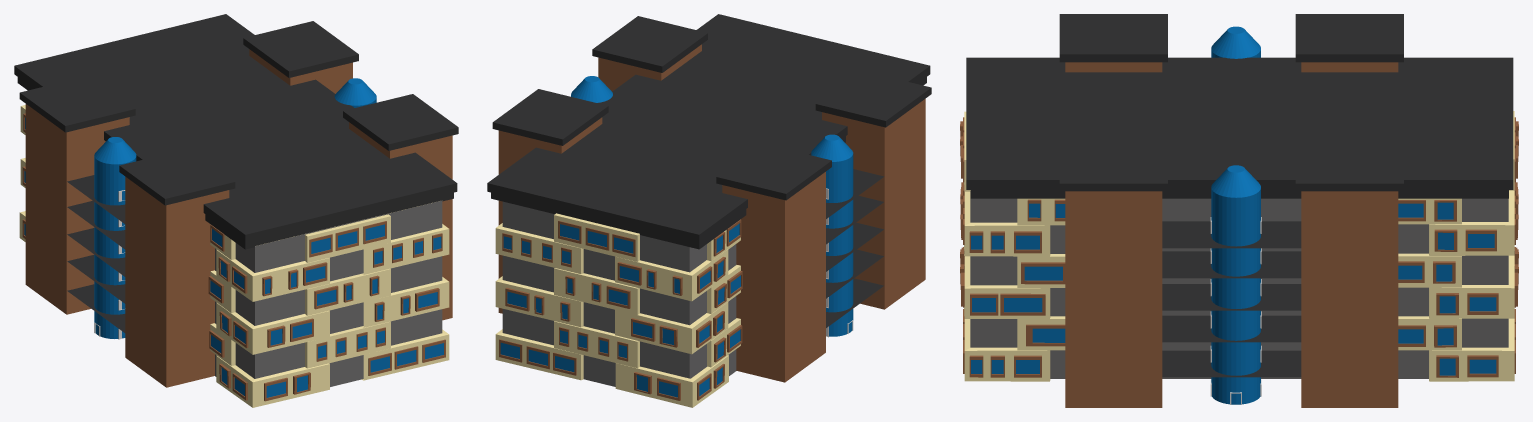
The model's file is Appartment_symmetry.fbx.
3 views of the same model, side by side, from view 1: azimuth 30°, elevation 25°; view 2: azimuth 150°, elevation 25°; view 3: azimuth 270°, elevation 25° (orthographic). The views are drawn at different scales.
Parts seen in each view (by area): view 1: Cube.001, Cube.004, Cube, Cube.003, Cube.005, Cube.147, Cylinder, Cube.146, Cube.021, Cube.020, Cube.022, Cube.026 (+26 smaller); view 2: Cube.001, Cube.003, Cube, Cube.004, Cube.005, Cube.147, Cylinder, Cube.014, Cube.015, Cube.016, Cube.145, Cube.013 (+25 smaller); view 3: Cube.001, Cube.145, Cube.146, Cube, Cube.005, Cube.147, Cylinder.001, Cube.152, Cube.151, Cube.148, Cube.149, Cube.002 (+33 smaller).
Boxes of the visible parts, x1,y1,x2,y2 form: Cube.001: [14, 14, 457, 243]; Cube.004: [125, 177, 229, 387]; Cube: [215, 200, 442, 386]; Cube.003: [25, 104, 129, 314]; Cube.005: [19, 75, 235, 205]; Cube.147: [243, 21, 458, 150]; Cylinder: [94, 137, 136, 338]; Cube.146: [349, 122, 452, 320]; Cube.021: [216, 302, 329, 354]; Cube.020: [216, 355, 329, 407]; Cube.022: [216, 249, 329, 301]; Cube.026: [305, 321, 390, 368]; Cube.001: [487, 14, 930, 243]; Cube.003: [722, 172, 825, 382]; Cube: [502, 201, 736, 386]; Cube.004: [822, 99, 925, 309]; Cube.005: [716, 70, 931, 200]; Cube.147: [492, 16, 707, 145]; Cylinder: [811, 134, 853, 336]; Cube.014: [615, 355, 728, 407]; Cube.015: [615, 302, 728, 354]; Cube.016: [615, 249, 728, 301]; Cube.145: [498, 117, 602, 313]; Cube.013: [495, 223, 583, 273]; Cube.001: [966, 57, 1513, 189]; Cube.145: [1301, 191, 1398, 407]; Cube.146: [1065, 191, 1162, 407]; Cube: [970, 190, 1508, 378]; Cube.005: [1059, 14, 1403, 62]; Cube.147: [1059, 143, 1403, 191]; Cylinder.001: [1211, 165, 1260, 404]; Cube.152: [1162, 221, 1301, 248]; Cube.151: [1162, 251, 1301, 278]; Cube.148: [1162, 350, 1301, 377]; Cube.149: [1162, 315, 1301, 342]; Cube.002: [970, 190, 1508, 198].
Size of the model in its own units: 20383 by 12730 by 28390.
